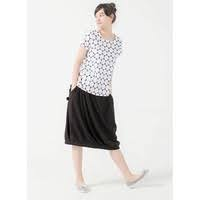C_skirt: (56, 79, 126, 156)
